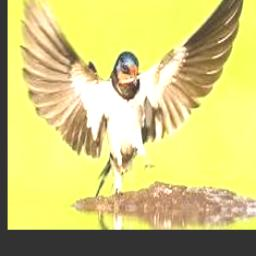Swallow: (21, 0, 247, 196)
